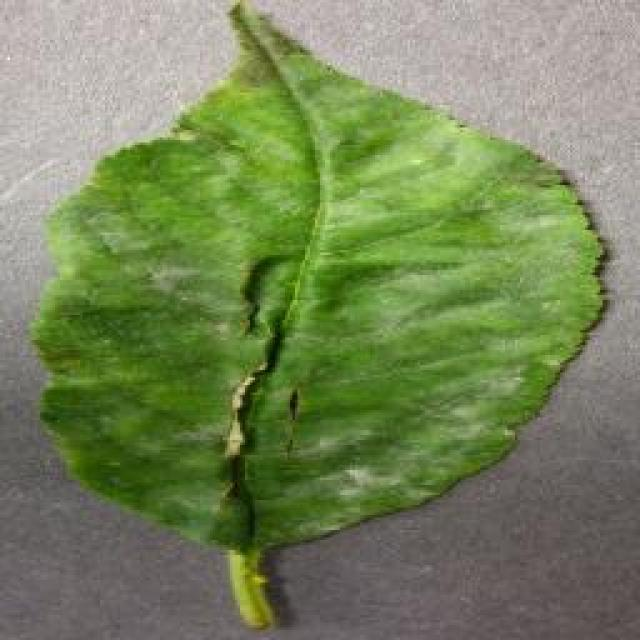Cherry___Powdery_mildew: (57, 176, 483, 515)
